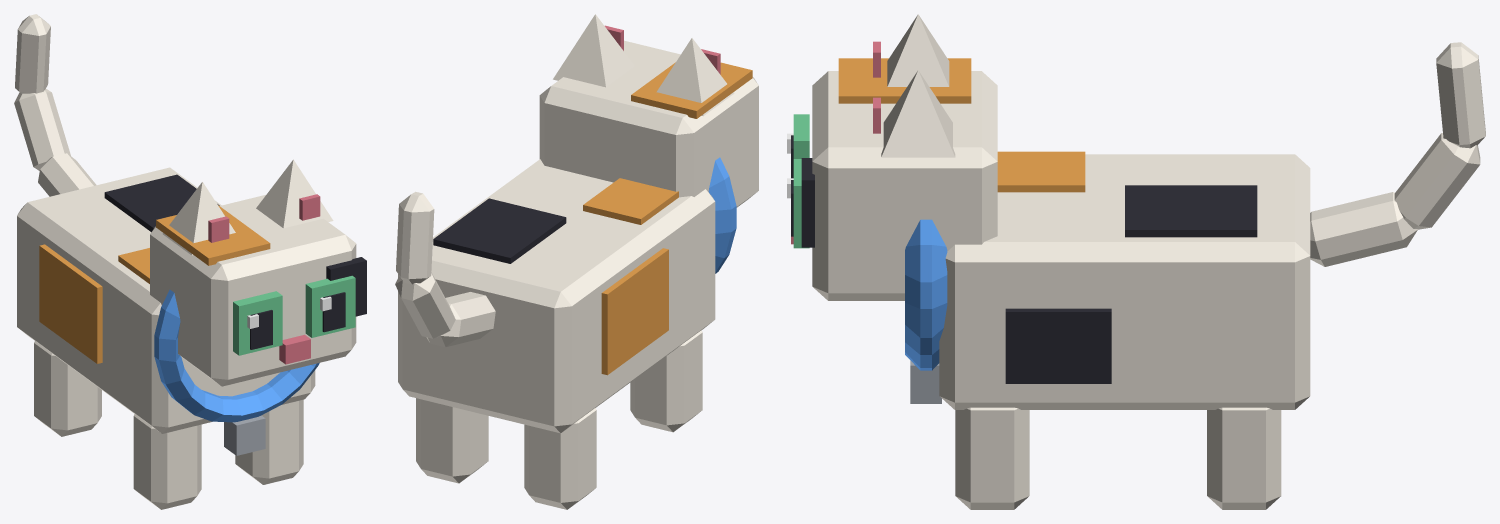
File: CatCafe_Cat_Calico.glb
3 renders of one model, left to right at view 1: azimuth 30°, elevation 25°; view 2: azimuth 150°, elevation 25°; view 3: azimuth 270°, elevation 25°, orthographic. The views are drawn at different scales.
Visible parts, largest first — view 1: CatCafe_Cat_Calico_Body, CatCafe_Cat_Calico_Head, CatCafe_Cat_Calico_Tail; view 2: CatCafe_Cat_Calico_Body, CatCafe_Cat_Calico_Head, CatCafe_Cat_Calico_Tail; view 3: CatCafe_Cat_Calico_Body, CatCafe_Cat_Calico_Head, CatCafe_Cat_Calico_Tail.
Boxes of the visible parts, x1=… form: CatCafe_Cat_Calico_Body: x1=17, y1=167, x2=319, y2=509; CatCafe_Cat_Calico_Head: x1=150, y1=159, x2=366, y2=386; CatCafe_Cat_Calico_Tail: x1=14, y1=14, x2=96, y2=196; CatCafe_Cat_Calico_Body: x1=398, y1=157, x2=736, y2=509; CatCafe_Cat_Calico_Head: x1=539, y1=14, x2=758, y2=207; CatCafe_Cat_Calico_Tail: x1=395, y1=191, x2=495, y2=347; CatCafe_Cat_Calico_Body: x1=905, y1=151, x2=1310, y2=509; CatCafe_Cat_Calico_Head: x1=787, y1=14, x2=997, y2=300; CatCafe_Cat_Calico_Tail: x1=1310, y1=42, x2=1485, y2=266.
Bounding box in the file's own units: 0.97 × 1.78 × 2.64.
Materials: 1 (1 with a texture image).
